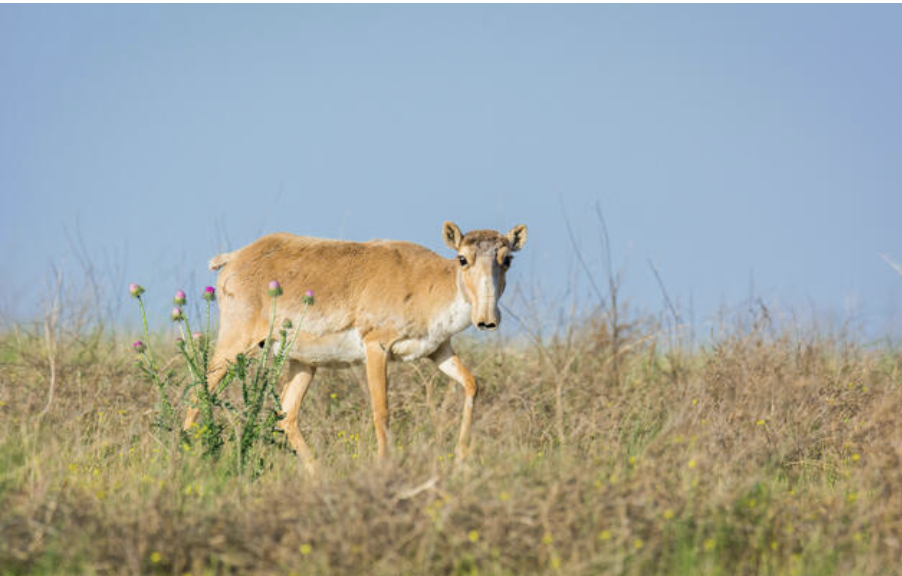saiga: (185, 204, 513, 470)
